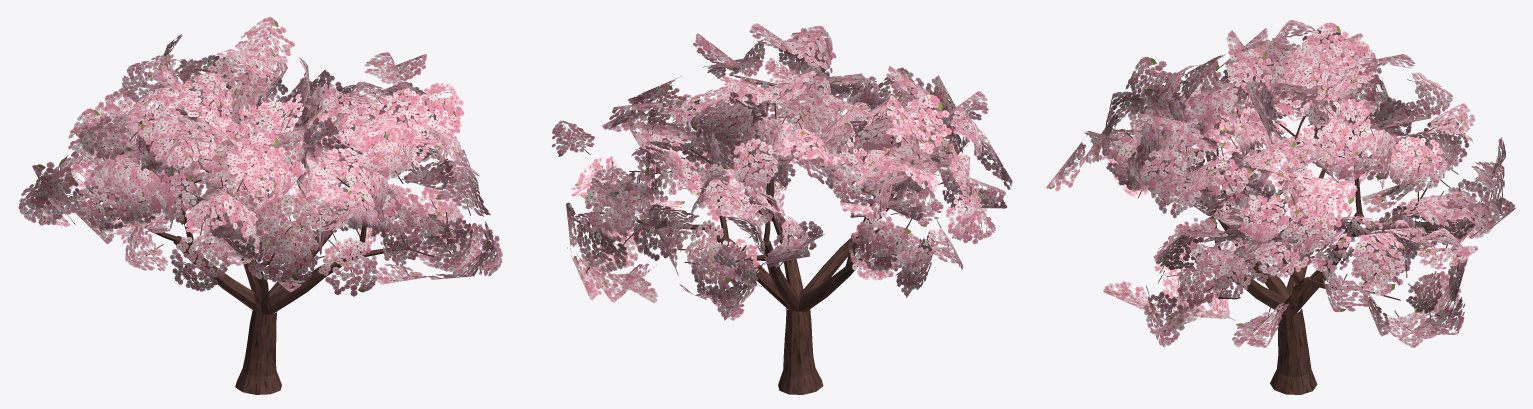
File: tree-cherry-small.gltf
3 renders of one model, left to right at view 1: azimuth 30°, elevation 25°; view 2: azimuth 150°, elevation 25°; view 3: azimuth 270°, elevation 25°, orthographic. The views are drawn at different scales.
Visible parts, largest first — view 1: tree_cherry_small; view 2: tree_cherry_small; view 3: tree_cherry_small.
Boxes of the visible parts, x1,y1,x2,y2 form: tree_cherry_small: [18, 17, 502, 394]; tree_cherry_small: [552, 23, 1012, 394]; tree_cherry_small: [1046, 19, 1516, 394].
Size of the model in its own units: 4.77 by 3.5 by 4.48.
Materials: 3 (3 with a texture image).
